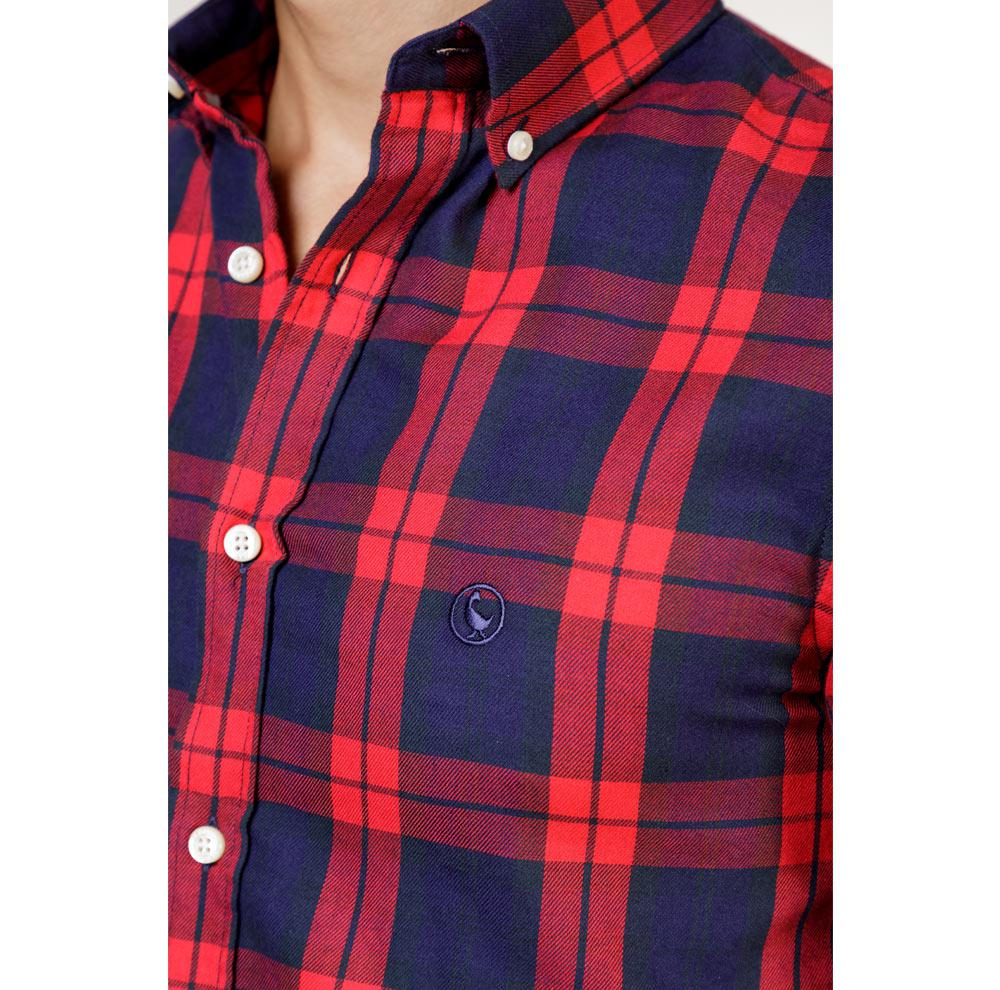teeshirt: (139, 61, 870, 990)
